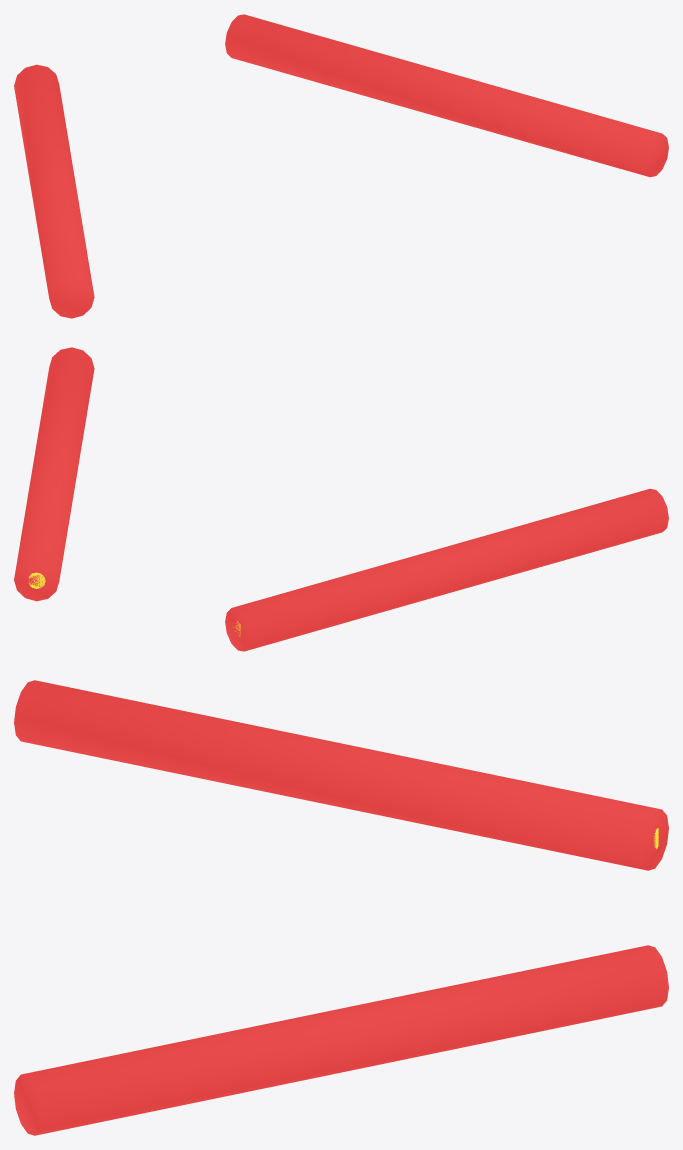
File: trait-eyes-red-laser-skull.glb
3 views of the same model, one above another, from view 1: azimuth 30°, elevation 25°; view 2: azimuth 150°, elevation 25°; view 3: azimuth 270°, elevation 25° (orthographic). The views are drawn at different scales.
Visible parts, largest first — view 1: trait_eye_beam_R, trait_eye_beam_L; view 2: trait_eye_beam_L, trait_eye_beam_R; view 3: trait_eye_beam_R, trait_eye_beam_L.
Boxes of the visible parts, x1,y1,x2,y2 form: trait_eye_beam_R: (225, 14, 668, 177); trait_eye_beam_L: (14, 64, 94, 318); trait_eye_beam_L: (225, 488, 668, 651); trait_eye_beam_R: (14, 347, 94, 601); trait_eye_beam_R: (14, 945, 668, 1135); trait_eye_beam_L: (14, 680, 668, 870).
Size of the model in its own units: 1.42 by 0.09 by 0.9382.
